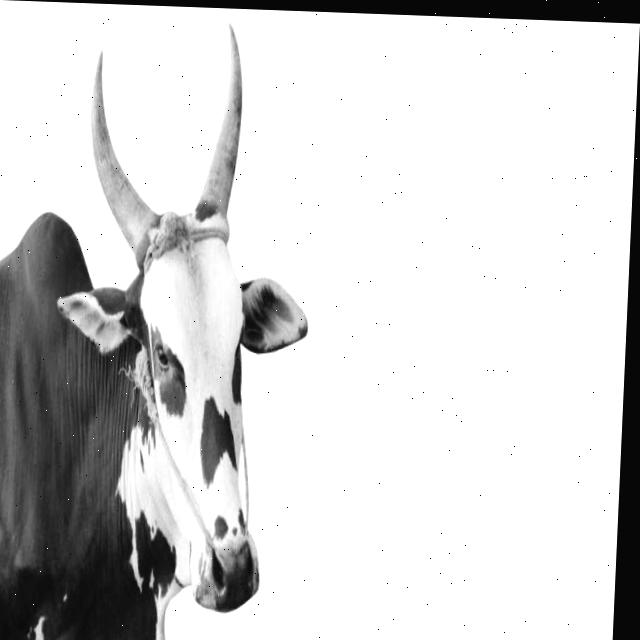Cow: (0, 13, 322, 640)
